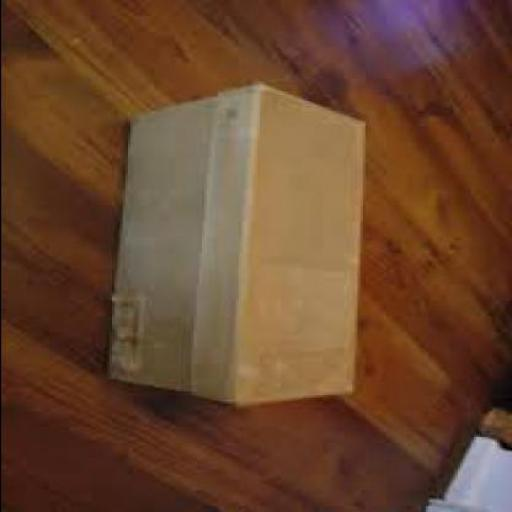cardboard: (106, 79, 369, 407)
